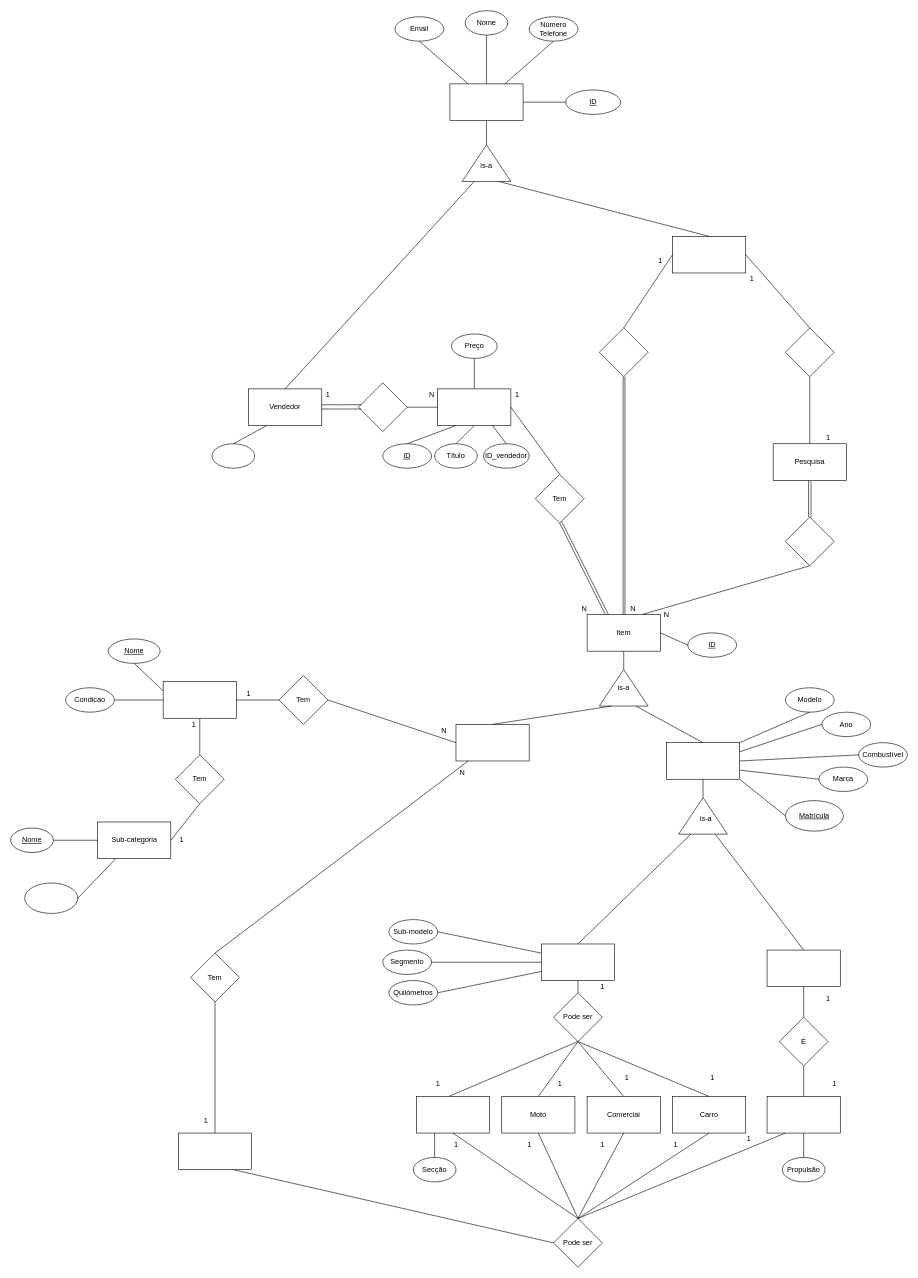
Image size: 918x1278. Some labels were removed from this diagram. The shapes that lost their labels are listed below. From the top down, each one's centre as x and y in pixels, then its label:
the point at 486,101: Utilizador
the point at 709,254: Cliente
the point at 623,352: Compra
the point at 809,352: Executa
the point at 382,407: Criar
the point at 474,406: Anúncio
the point at 233,455: NIF
the point at 809,541: Resultado
the point at 199,699: Categoria
the point at 492,742: Peça
the point at 703,760: Veículo
the point at 51,897: Nome_categoria
the point at 578,962: Terrestre
the point at 803,968: Aquático
the point at 453,1114: Autocaravana
the point at 803,1114: Barco
the point at 215,1151: Tipo de veículo
